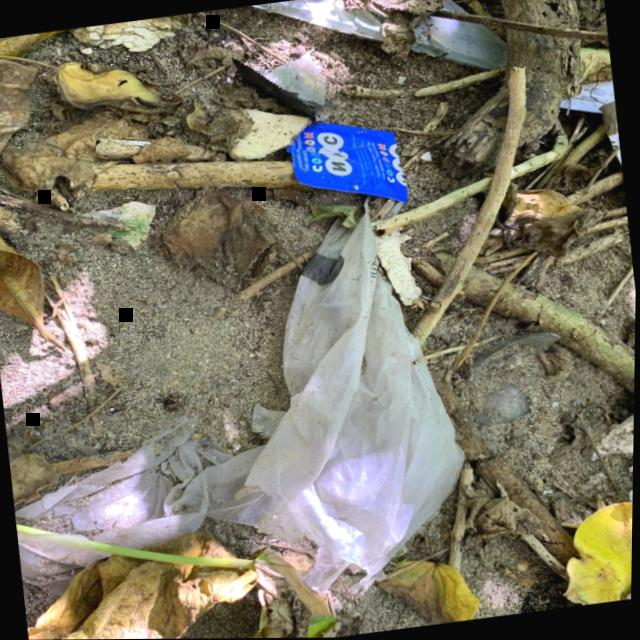Broken glass: (469, 331, 561, 425)
Other plastic: (286, 123, 406, 202), (232, 55, 331, 120), (558, 80, 615, 112), (599, 102, 622, 170)
Plastic film: (15, 194, 466, 597)
Styrofoam piece: (71, 14, 180, 51), (371, 228, 421, 304)
